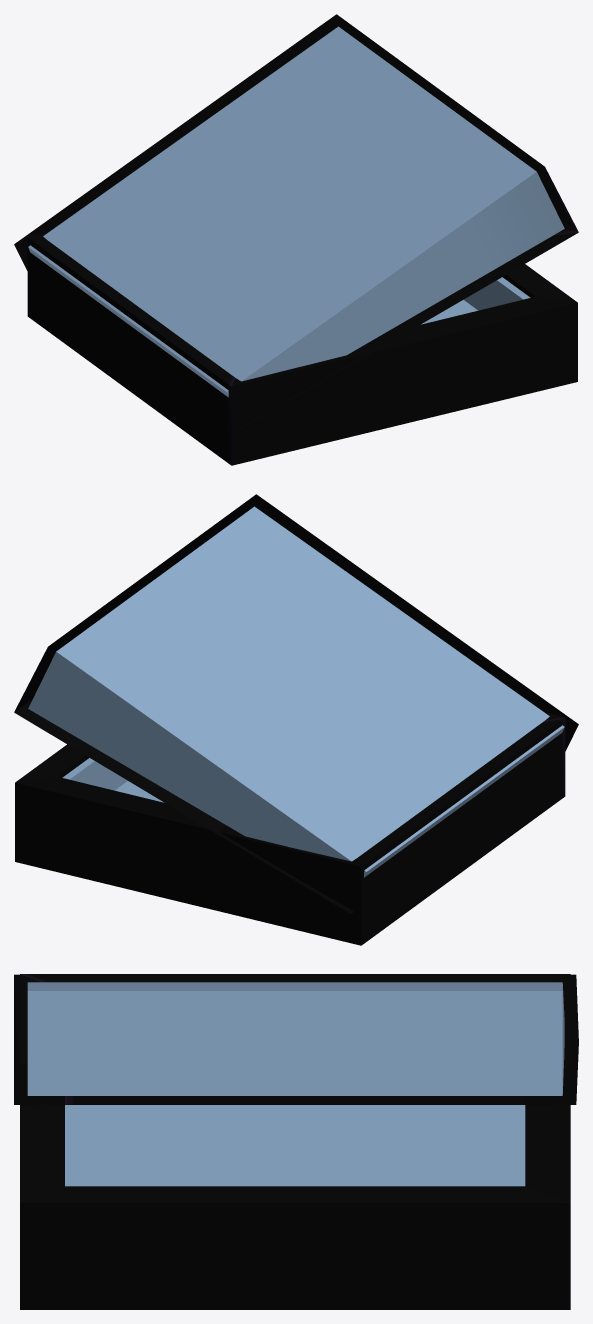
Rendered from PizzaBox.fbx.
3 views of the same model, one above another, from view 1: azimuth 30°, elevation 25°; view 2: azimuth 150°, elevation 25°; view 3: azimuth 270°, elevation 25° (orthographic). The views are drawn at different scales.
Visible parts, largest first — view 1: PizzaBox; view 2: PizzaBox; view 3: PizzaBox.
Boxes of the visible parts, x1,y1,x2,y2 form: PizzaBox: [14, 14, 578, 465]; PizzaBox: [14, 494, 578, 945]; PizzaBox: [14, 974, 578, 1309].
Size of the model in its own units: 213 by 128 by 216.
